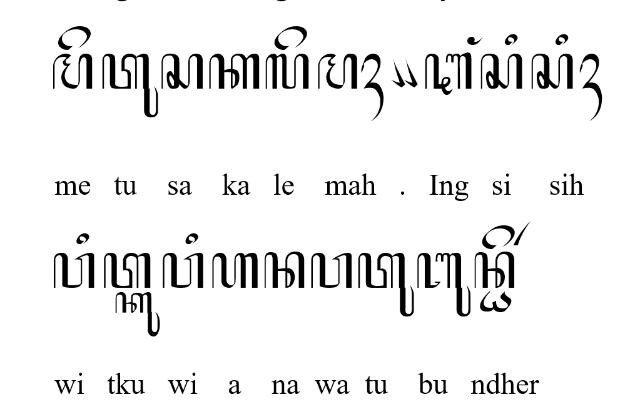I: (424, 52, 472, 96)
_dh: (479, 291, 511, 313)
_h1: (361, 53, 385, 121), (580, 52, 602, 121)
_r1: (513, 220, 531, 246)
bu: (416, 253, 472, 319)
e: (57, 25, 91, 51), (481, 224, 515, 250)
h: (212, 253, 258, 289)
i: (504, 34, 518, 46), (555, 33, 569, 45), (185, 233, 199, 245), (77, 234, 89, 244)
k: (208, 52, 260, 90)
kom: (390, 58, 406, 88), (403, 58, 417, 88)
ku: (114, 293, 160, 337)
l: (264, 54, 310, 90), (274, 26, 308, 50)
m: (52, 52, 92, 90), (317, 53, 357, 89)
n: (263, 252, 305, 290), (474, 252, 514, 289)
ng: (468, 36, 482, 46)
s: (161, 53, 203, 89), (481, 53, 523, 89), (532, 53, 574, 89)
t: (104, 253, 152, 289)
tu: (358, 252, 414, 318), (102, 54, 158, 118)
w: (53, 252, 95, 290), (162, 252, 204, 290), (310, 252, 352, 290)
